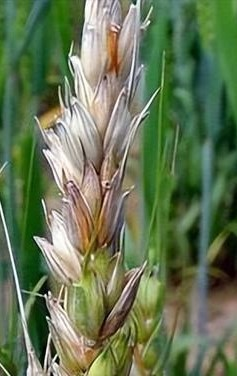Wheat scab: (37, 6, 160, 359)
